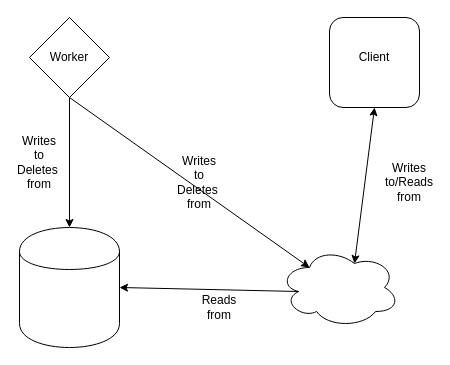
Image size: 450x365. Some labels were removed from this diagram. Here are the shapes that lost their labels. From the top down, the box of each, then its label:
(18, 226, 120, 348): Cloud Storage
(278, 246, 400, 328): Firestore
